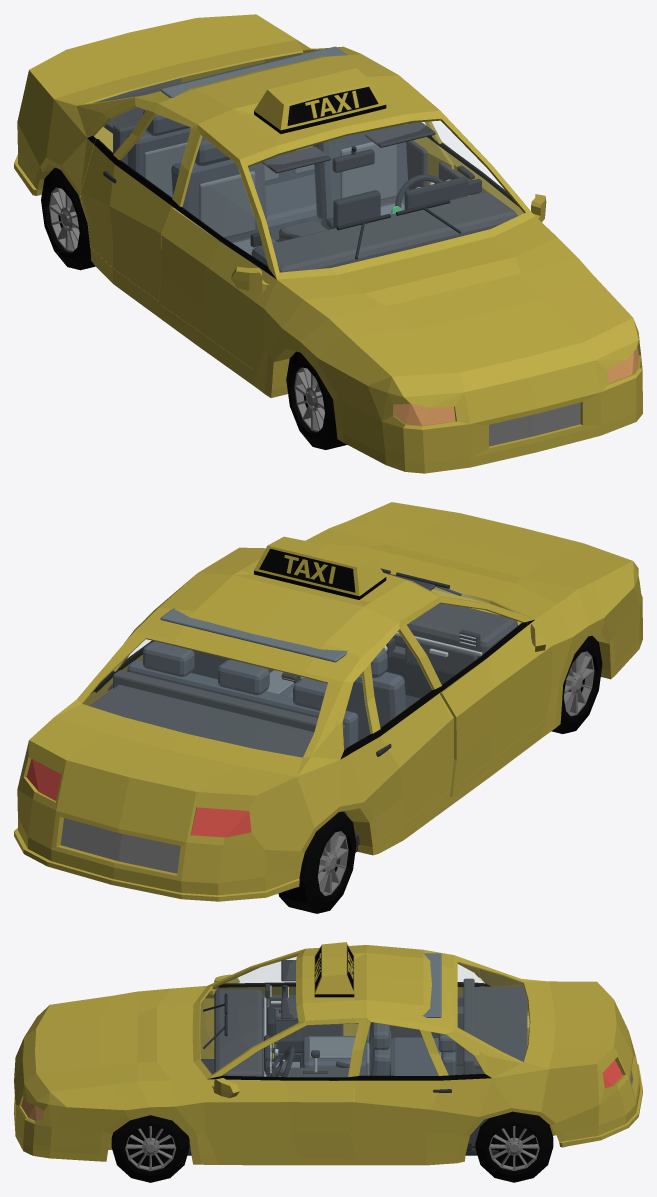
Rendered from Taxi_Full.fbx.
3 views of the same model, one above another, from view 1: azimuth 30°, elevation 25°; view 2: azimuth 150°, elevation 25°; view 3: azimuth 270°, elevation 25° (orthographic). The views are drawn at different scales.
Parts seen in each view (by area): view 1: Taxi_BODY, Interior_FIJO, Taxi_R_FRONT_SHELL, Taxi_R_REAR_SHELL, Visual_RESPALDO_COPILOTO, Visual_RESPALDO_CONDUCTOR, Taxi_BackWheels, Taxi_FrontLeftWheel, Taxi_L_FRONT_SHELL, Parasol, Parasol.001, Visual_DOOR_L_REAR (+3 smaller); view 2: Taxi_BODY, Interior_FIJO, Taxi_R_REAR_SHELL, Taxi_R_FRONT_SHELL, Taxi_BackWheels, Taxi_FrontLeftWheel, Visual_RESPALDO_COPILOTO, Visual_GUANTERA, Taxi_L_REAR_SHELL, Visual_RESPALDO_CONDUCTOR; view 3: Taxi_BODY, Interior_FIJO, Taxi_L_FRONT_SHELL, Taxi_L_REAR_SHELL, Taxi_BackWheels.001, Taxi_FrontRightWheel, Visual_ASIENTO_COPILOTO, Visual_RESPALDO_CONDUCTOR, Visual_DOOR_R_FRONT, Taxi_R_FRONT_SHELL, Retrovisor_ORIGINAL_L, Visual_DOOR_R_REAR.
Boxes of the visible parts, x1,y1,x2,y2 form: Taxi_BODY: (14,14,642,473); Interior_FIJO: (102,46,517,272); Taxi_R_FRONT_SHELL: (159,131,277,369); Taxi_R_REAR_SHELL: (80,97,202,303); Visual_RESPALDO_COPILOTO: (171,136,267,241); Visual_RESPALDO_CONDUCTOR: (313,124,408,221); Taxi_BackWheels: (41,168,95,270); Taxi_FrontLeftWheel: (286,351,346,449); Taxi_L_FRONT_SHELL: (408,83,523,216); Parasol: (365,122,435,147); Parasol.001: (261,146,330,173); Visual_DOOR_L_REAR: (406,140,427,189); Taxi_BODY: (14,502,642,901); Interior_FIJO: (90,603,517,867); Taxi_R_REAR_SHELL: (321,625,453,842); Taxi_R_FRONT_SHELL: (407,596,542,789); Taxi_BackWheels: (278,811,356,913); Taxi_FrontLeftWheel: (551,635,602,733); Visual_RESPALDO_COPILOTO: (346,649,406,740); Visual_GUANTERA: (405,639,477,675); Taxi_L_REAR_SHELL: (89,610,154,705); Visual_RESPALDO_CONDUCTOR: (176,646,263,679); Taxi_BODY: (14,942,642,1165); Interior_FIJO: (187,953,527,1155); Taxi_L_FRONT_SHELL: (218,1018,354,1154); Taxi_L_REAR_SHELL: (355,1022,479,1154); Taxi_BackWheels.001: (475,1111,553,1182); Taxi_FrontRightWheel: (111,1115,189,1182); Visual_ASIENTO_COPILOTO: (302,1036,365,1067); Visual_RESPALDO_CONDUCTOR: (366,1022,391,1075); Visual_DOOR_R_FRONT: (263,995,343,1052); Taxi_R_FRONT_SHELL: (218,953,354,1035); Retrovisor_ORIGINAL_L: (212,1078,239,1098); Visual_DOOR_R_REAR: (390,995,463,1038).
Size of the model in its own units: 181 by 131 by 422.
